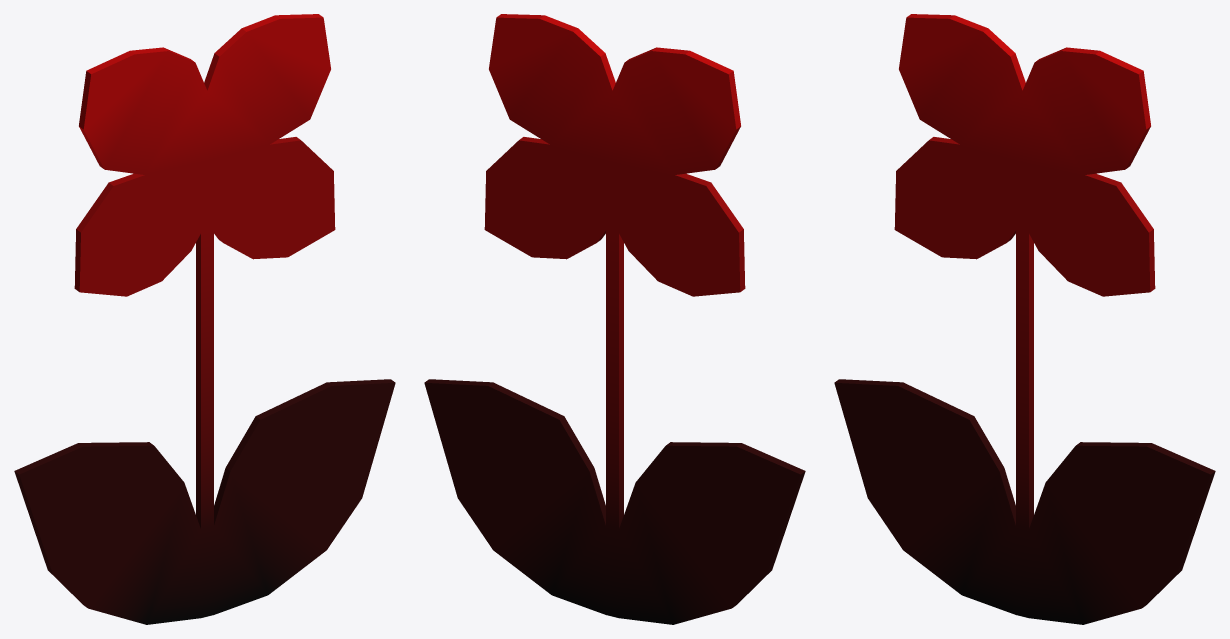
Rendered from Flower02.fbx.
3 renders of one model, left to right at view 1: azimuth 30°, elevation 25°; view 2: azimuth 150°, elevation 25°; view 3: azimuth 330°, elevation 25°, orthographic.
Visible parts, largest first — view 1: Flower02; view 2: Flower02; view 3: Flower02.
Part boxes in pixels (bbox=[...]): Flower02: bbox=[14, 14, 395, 624]; Flower02: bbox=[424, 14, 805, 624]; Flower02: bbox=[834, 14, 1215, 624].
Bounding box in the file's own units: 27.93 × 41.11 × 0.633.
